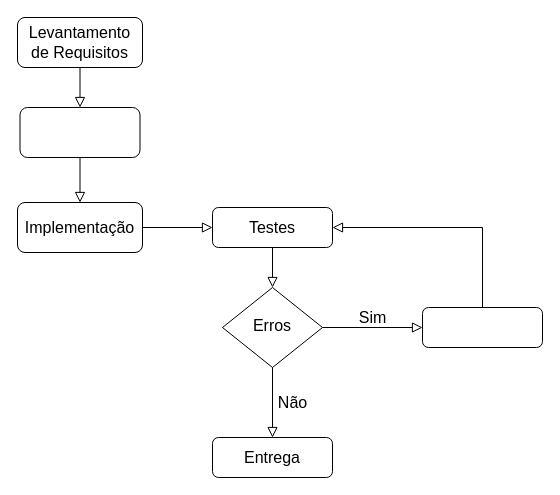
This 560x495 diagram has some shape labels left out. Here are the shapes that lost their labels. From the top down, the centre of each, then its label:
point 79,132: Análise de Requisitos
point 482,327: Correções
